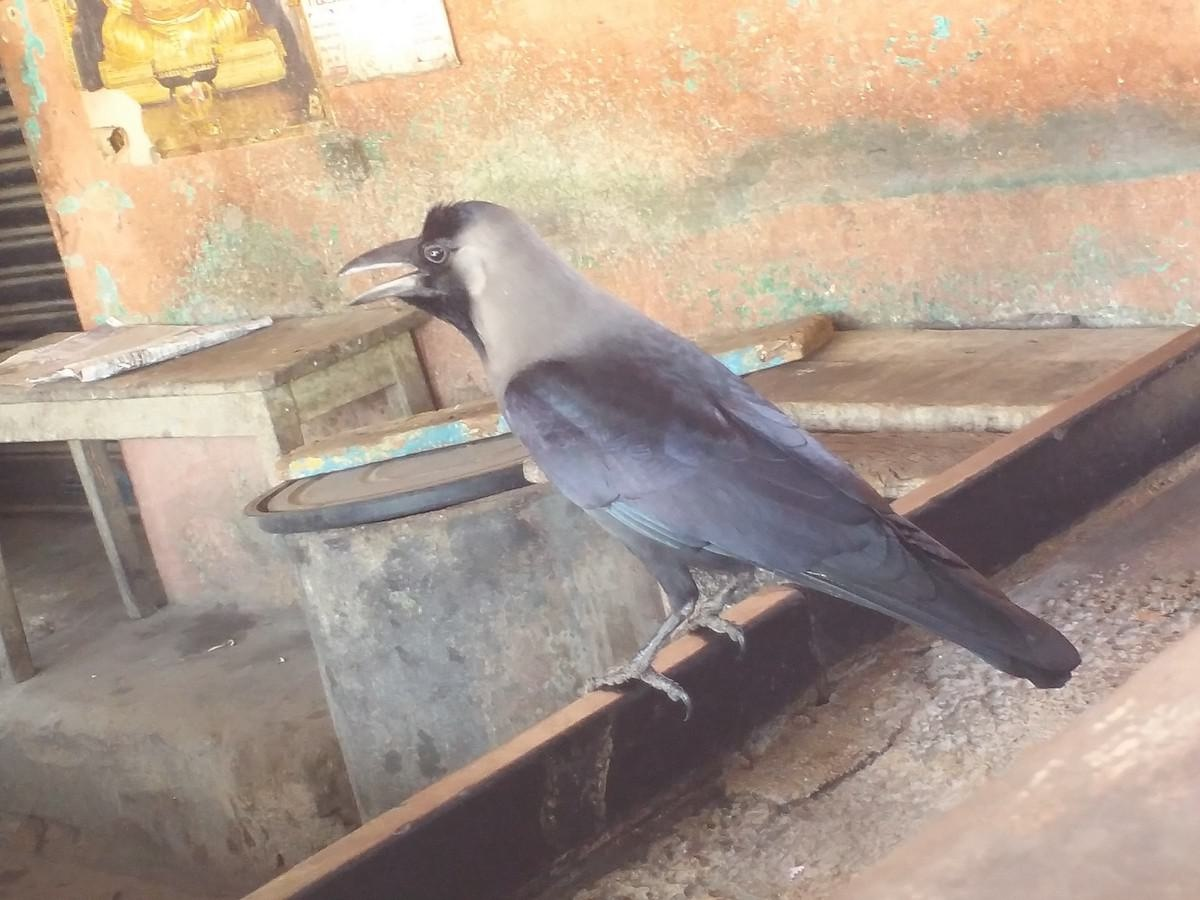crow: (341, 186, 1068, 727)
